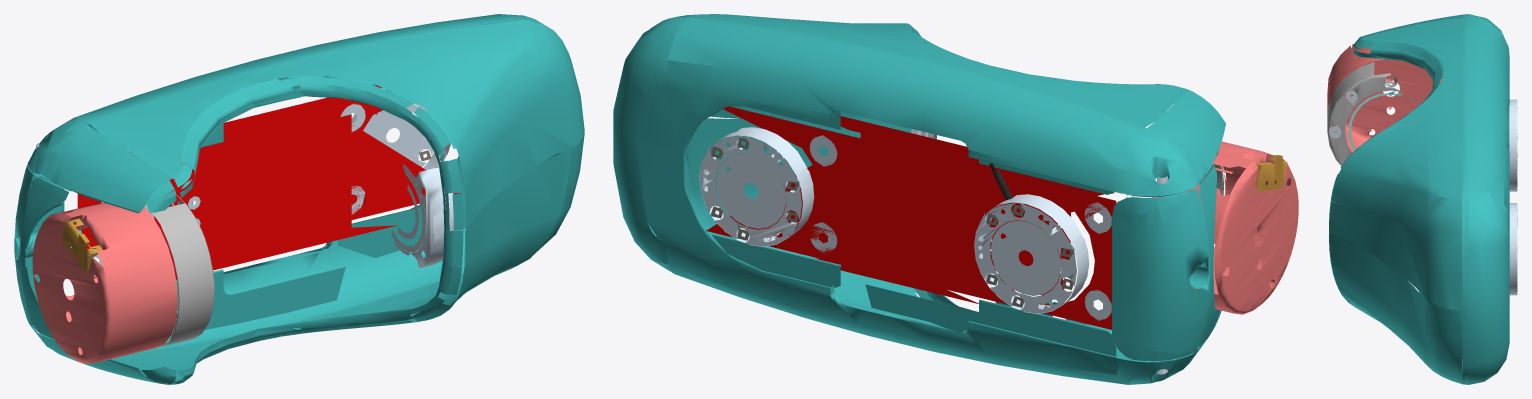
File: sim_icub3_l_ankle_2.obj
3 views of the same model, side by side, from view 1: azimuth 30°, elevation 25°; view 2: azimuth 150°, elevation 25°; view 3: azimuth 270°, elevation 25° (orthographic). The views are drawn at different scales.
Bounding box in the file's own units: 257 × 117 × 92.83.
